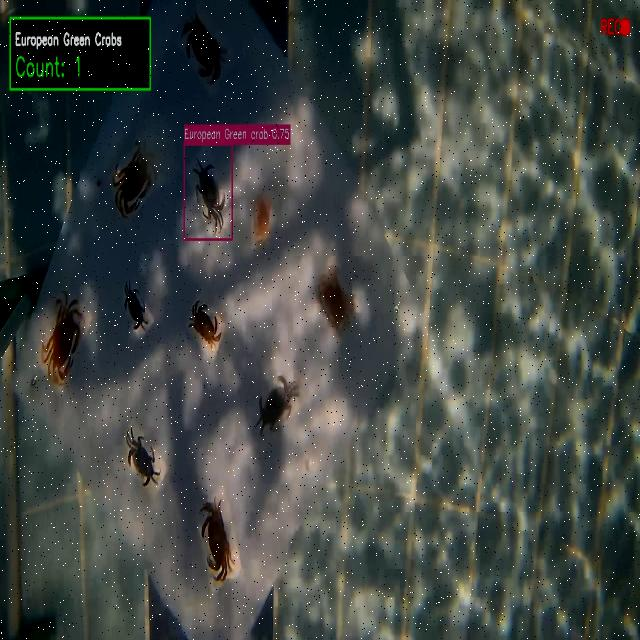European_Green_Crab: (249, 357, 304, 453), (184, 148, 233, 245), (118, 417, 169, 500), (116, 275, 151, 340)
